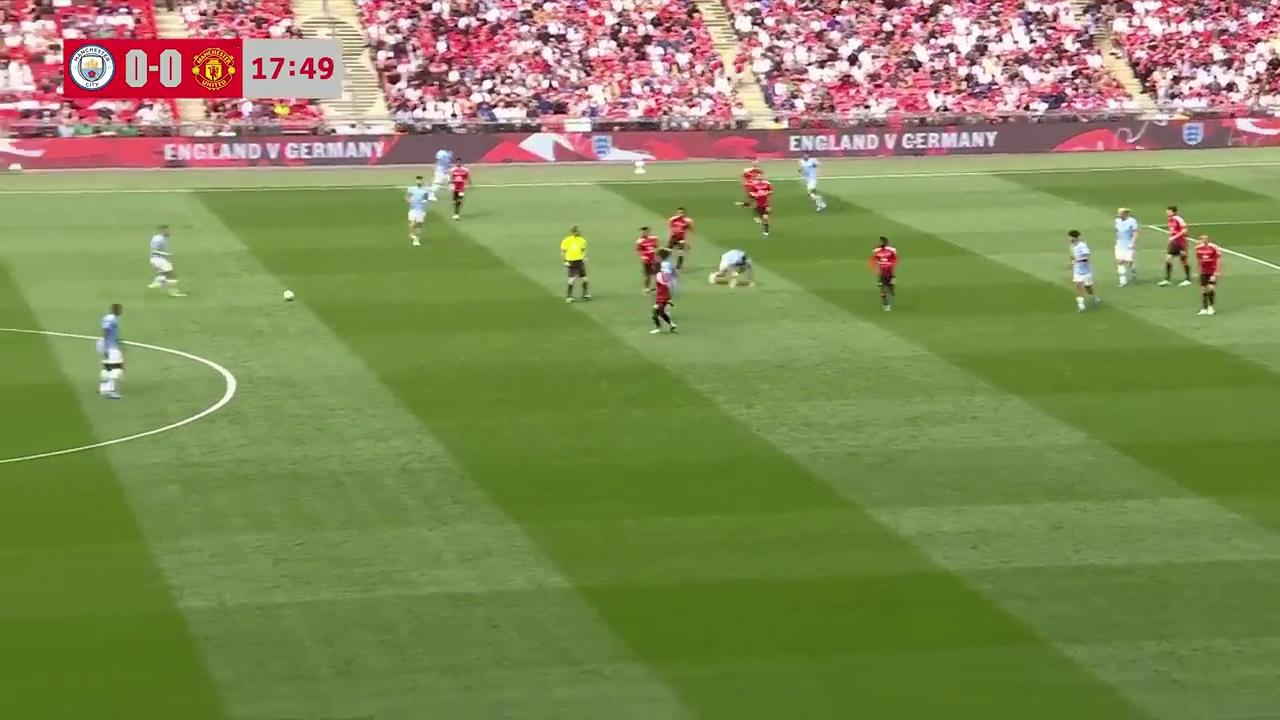ball: (282, 287, 295, 301)
player: (1067, 231, 1102, 312), (94, 311, 125, 399), (647, 257, 678, 334), (1161, 206, 1190, 286), (867, 236, 897, 311), (708, 244, 756, 289), (1113, 207, 1139, 287), (1196, 235, 1222, 314), (738, 168, 772, 226), (745, 171, 773, 237), (148, 226, 176, 287), (666, 206, 693, 269), (634, 226, 658, 293), (406, 180, 430, 246), (798, 155, 826, 211), (738, 166, 771, 208), (449, 165, 470, 219), (431, 149, 452, 202)
referee: (561, 227, 591, 303)
